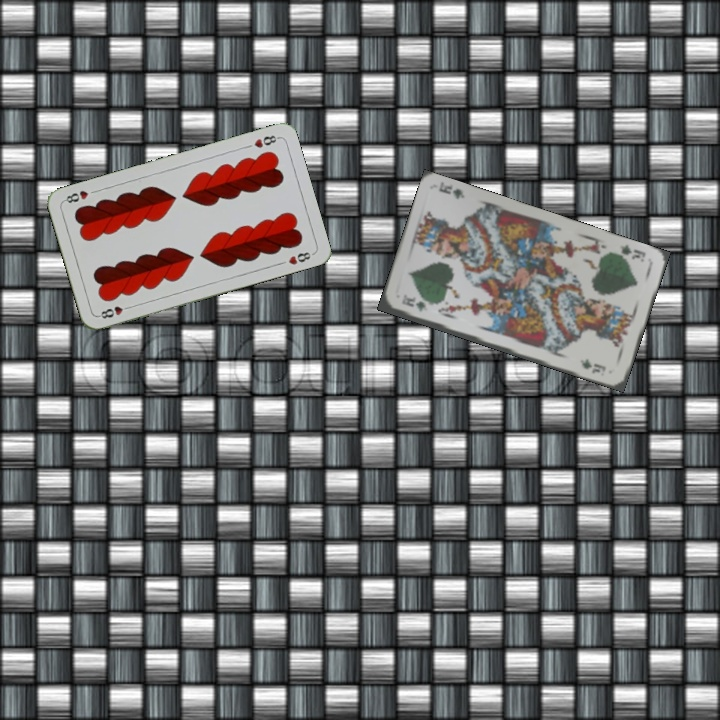GK: (616, 241, 648, 265), (398, 293, 430, 314)
H8: (95, 301, 135, 321), (250, 131, 281, 151)
